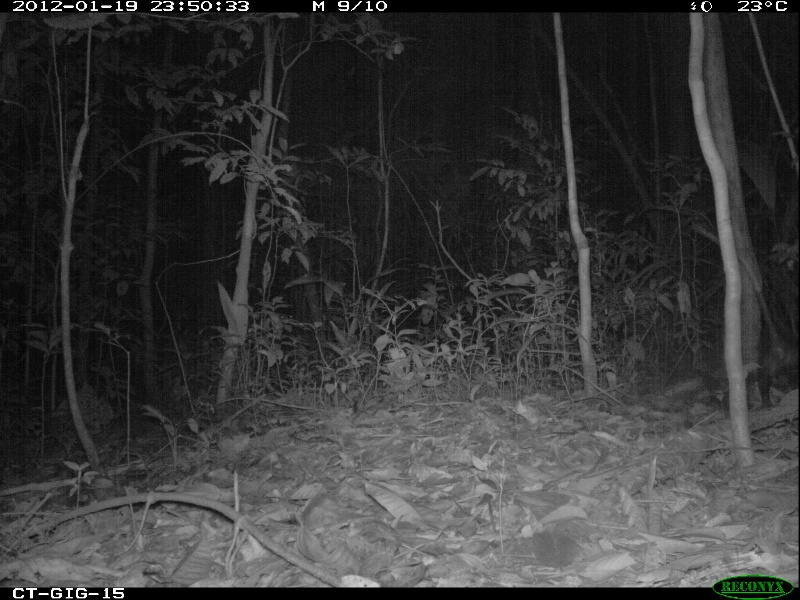opossum: (691, 216, 800, 420)
